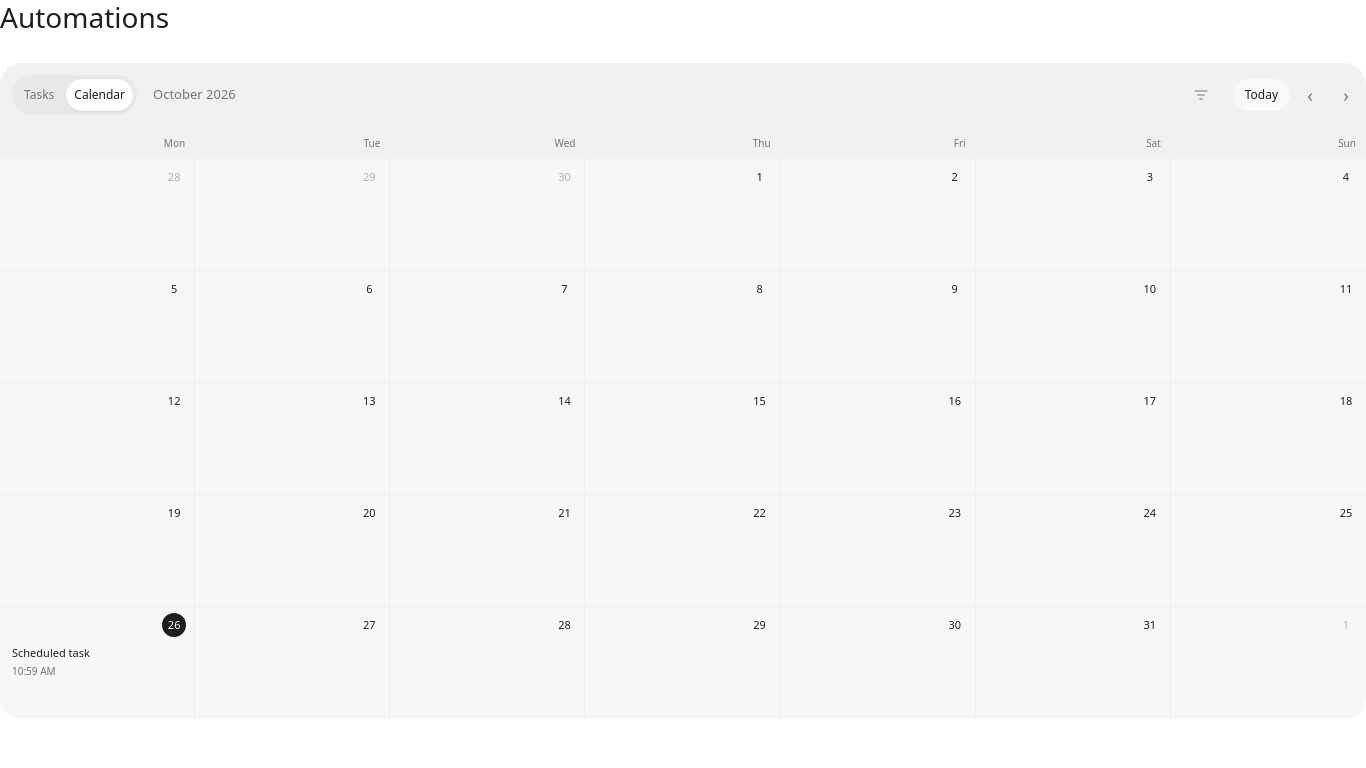
Scenario: automation channel identity › preserves the label for api
The image size is (1366, 768).
Click the button "Scheduled task 10:59 AM" at x=97, y=662, box [4, 639, 190, 685]
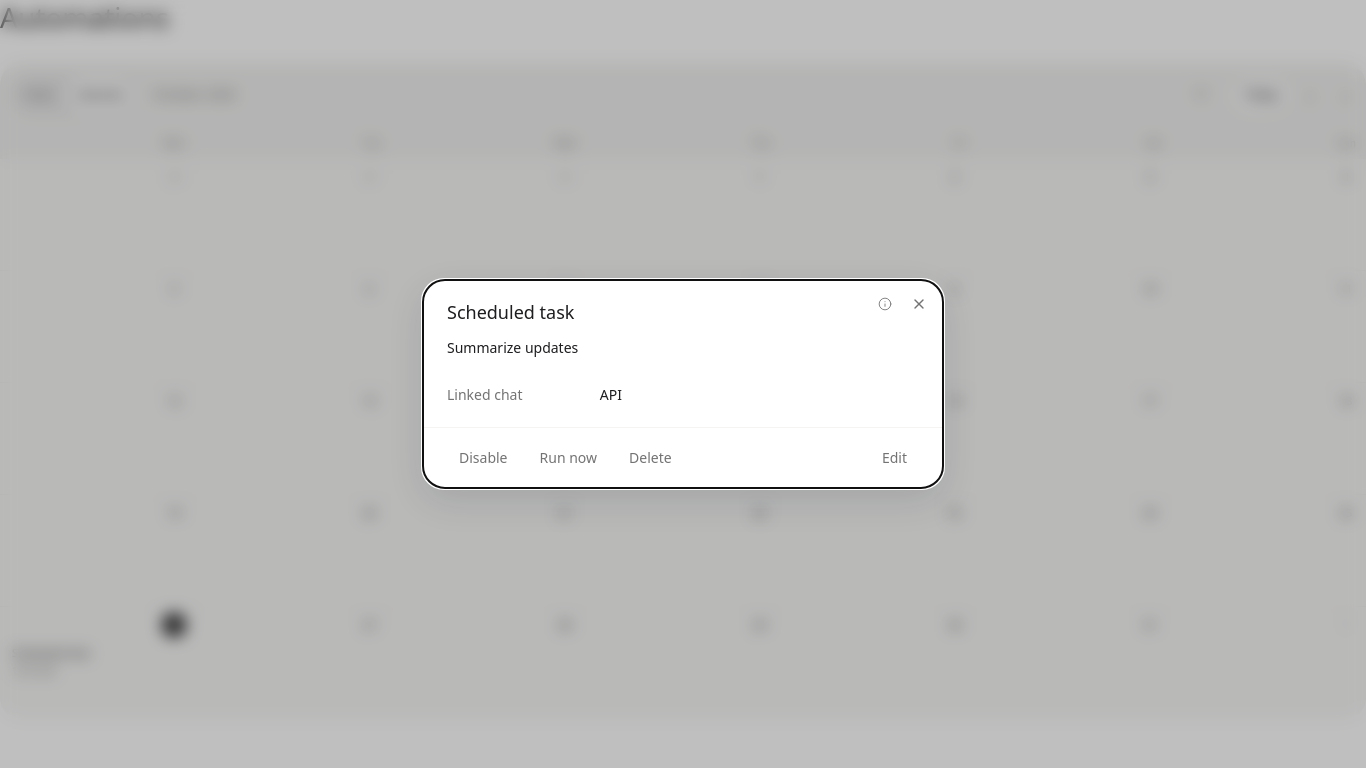
Result: the text "API" is shown at [600, 385, 622, 404]
